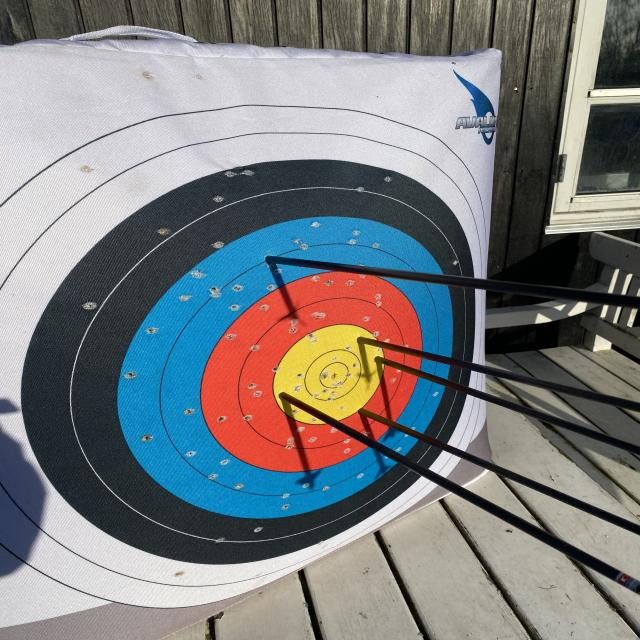Arrow_Blue: (237, 246, 298, 279)
Arrow_Red: (349, 400, 376, 423)
Arrow_Yellow: (271, 378, 306, 415), (342, 329, 381, 356), (360, 355, 402, 373)
